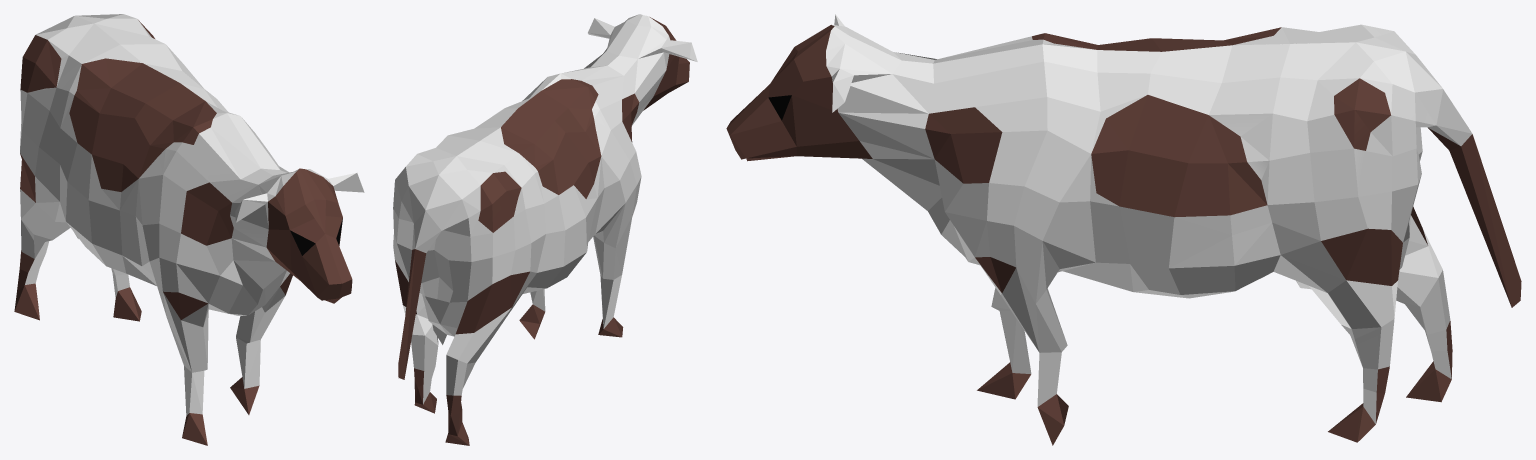
Rendered from Cow_2.FBX.
The picture shows the model from 3 angles, left to right: view 1: azimuth 30°, elevation 25°; view 2: azimuth 150°, elevation 25°; view 3: azimuth 270°, elevation 25°; orthographic projection. The views are drawn at different scales.
Parts seen in each view (by area): view 1: Cow_2; view 2: Cow_2; view 3: Cow_2.
Part boxes in pixels (box(x1,y1,x2,y2)): Cow_2: box(14, 14, 364, 445); Cow_2: box(393, 14, 697, 445); Cow_2: box(726, 14, 1521, 445).
Size of the model in its own units: 0.8032 by 1.62 by 2.94.
1 material, 1 textured.
